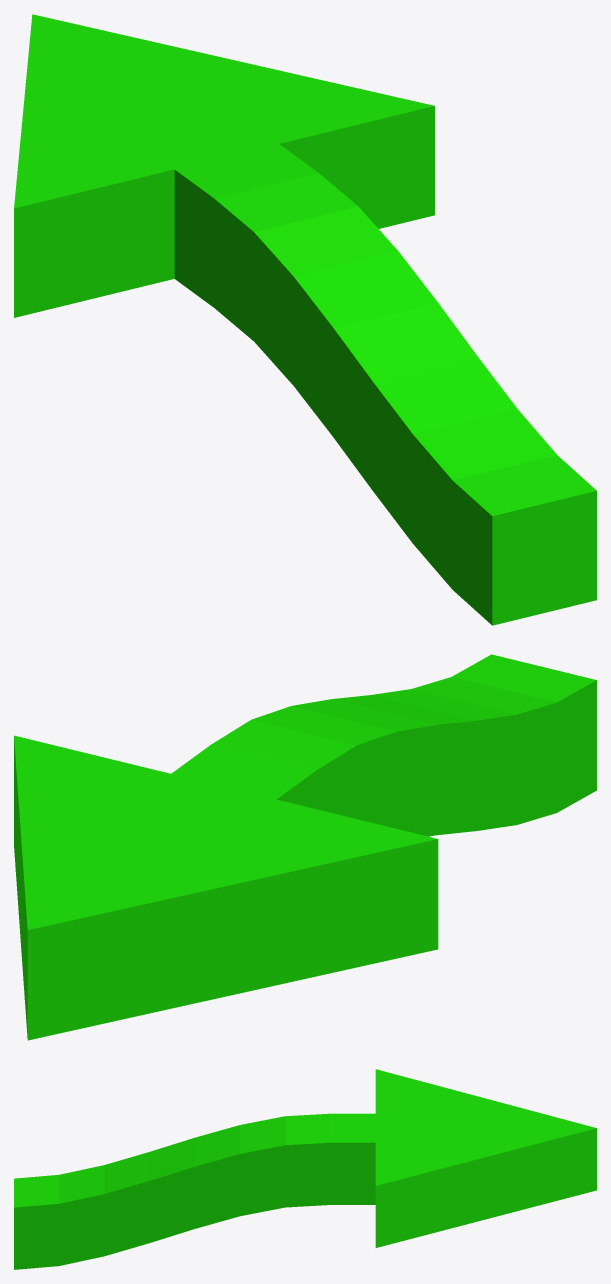
Rendered from fleche.fbx.
The picture shows the model from 3 angles, top to bottom: view 1: azimuth 30°, elevation 25°; view 2: azimuth 150°, elevation 25°; view 3: azimuth 270°, elevation 25°; orthographic projection. The views are drawn at different scales.
Parts seen in each view (by area): view 1: Cube; view 2: Cube; view 3: Cube.
Boxes of the visible parts, x1,y1,x2,y2 form: Cube: (14,14,596,625); Cube: (14,654,596,1040); Cube: (14,1069,596,1269).
Size of the model in its own units: 805 by 409 by 1697.
